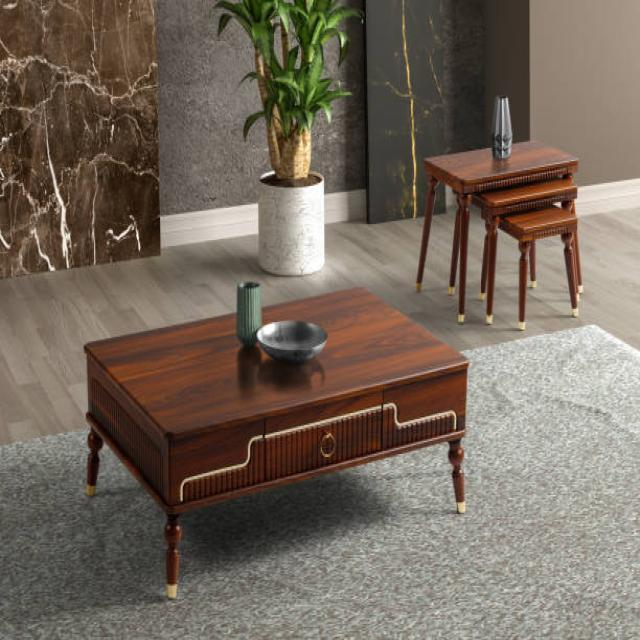table: (82, 284, 470, 599), (414, 138, 583, 326)
